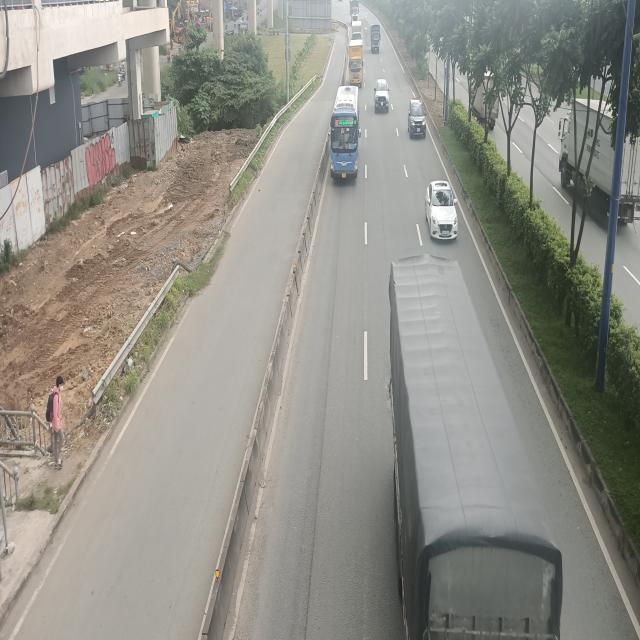car: (426, 182, 460, 242), (408, 100, 427, 140)
coach: (330, 84, 362, 179)
truck: (388, 254, 574, 636), (349, 42, 364, 88)
